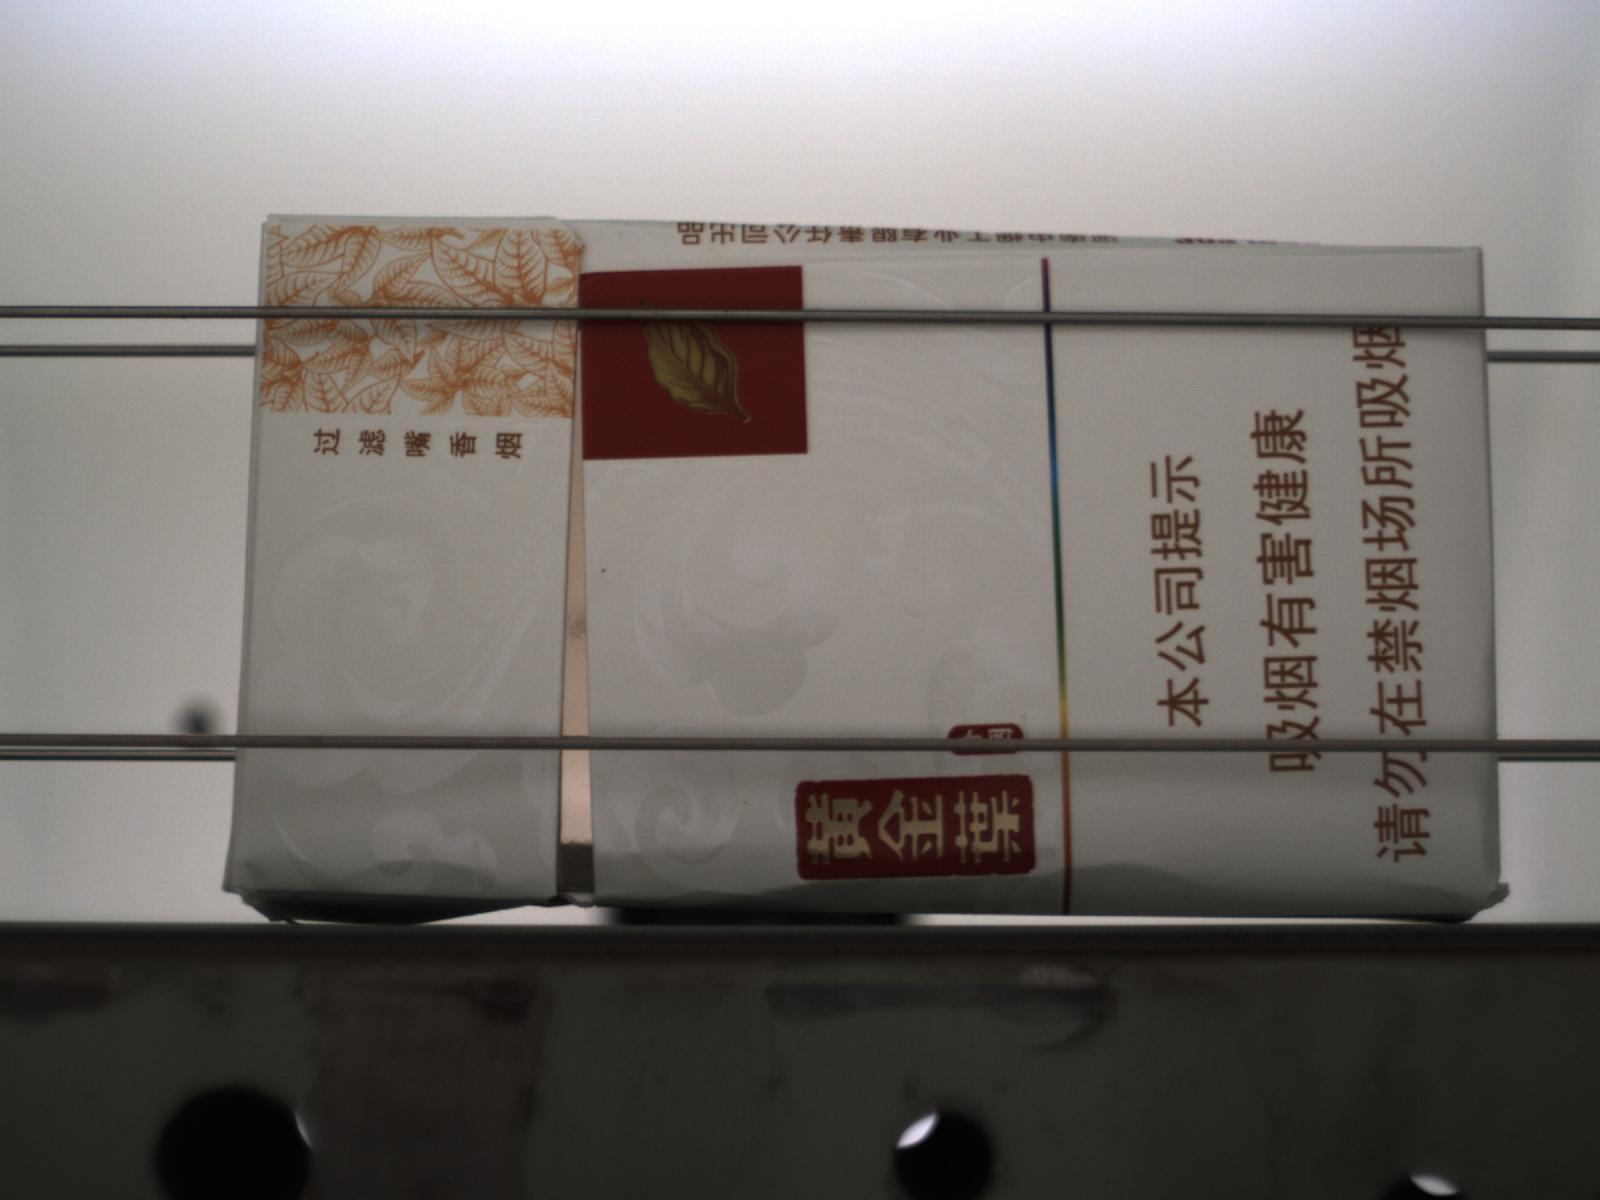boxDamage_slight: (580, 858, 1516, 925)
dirtySpot: (741, 797, 753, 809), (598, 566, 609, 576)
lower_upwarp: (220, 892, 549, 928)
skewedOpen: (552, 321, 603, 913)
skewed_upper_0: (561, 216, 1306, 276)
